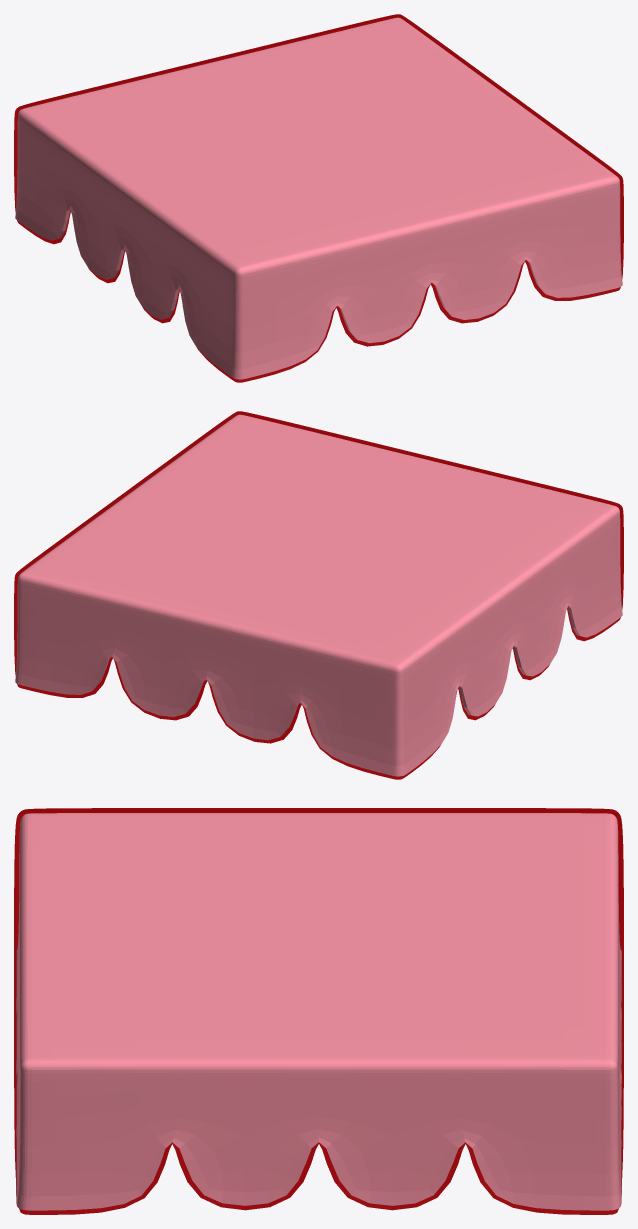
The model's file is quadrado rosa.glb.
3 renders of one model, top to bottom at view 1: azimuth 30°, elevation 25°; view 2: azimuth 150°, elevation 25°; view 3: azimuth 270°, elevation 25°, orthographic. The views are drawn at different scales.
Visible parts, largest first — view 1: Cube.016; view 2: Cube.016; view 3: Cube.016.
Part boxes in pixels (<box>): Cube.016: <box>14,14,623,382</box>; Cube.016: <box>14,411,623,779</box>; Cube.016: <box>14,808,623,1214</box>.
Bounding box in the file's own units: 22.35 × 6.37 × 22.35.
